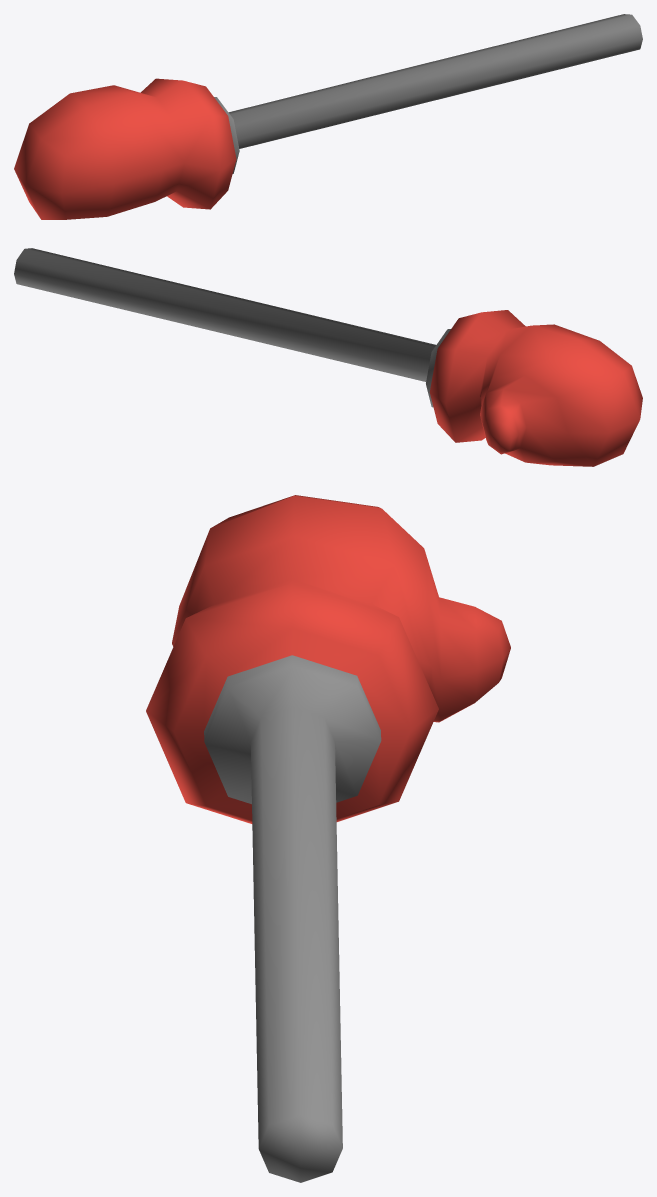
The model's file is yubruk (1).fbx.
The picture shows the model from 3 angles, top to bottom: view 1: azimuth 30°, elevation 25°; view 2: azimuth 150°, elevation 25°; view 3: azimuth 270°, elevation 25°; orthographic projection. The views are drawn at different scales.
Parts seen in each view (by area): view 1: yubruk; view 2: yubruk; view 3: yubruk.
Part boxes in pixels (bbox=[...]): yubruk: bbox=[14, 14, 642, 219]; yubruk: bbox=[14, 248, 642, 466]; yubruk: bbox=[146, 495, 510, 1182].
Bounding box in the file's own units: 535 × 107 × 139.
